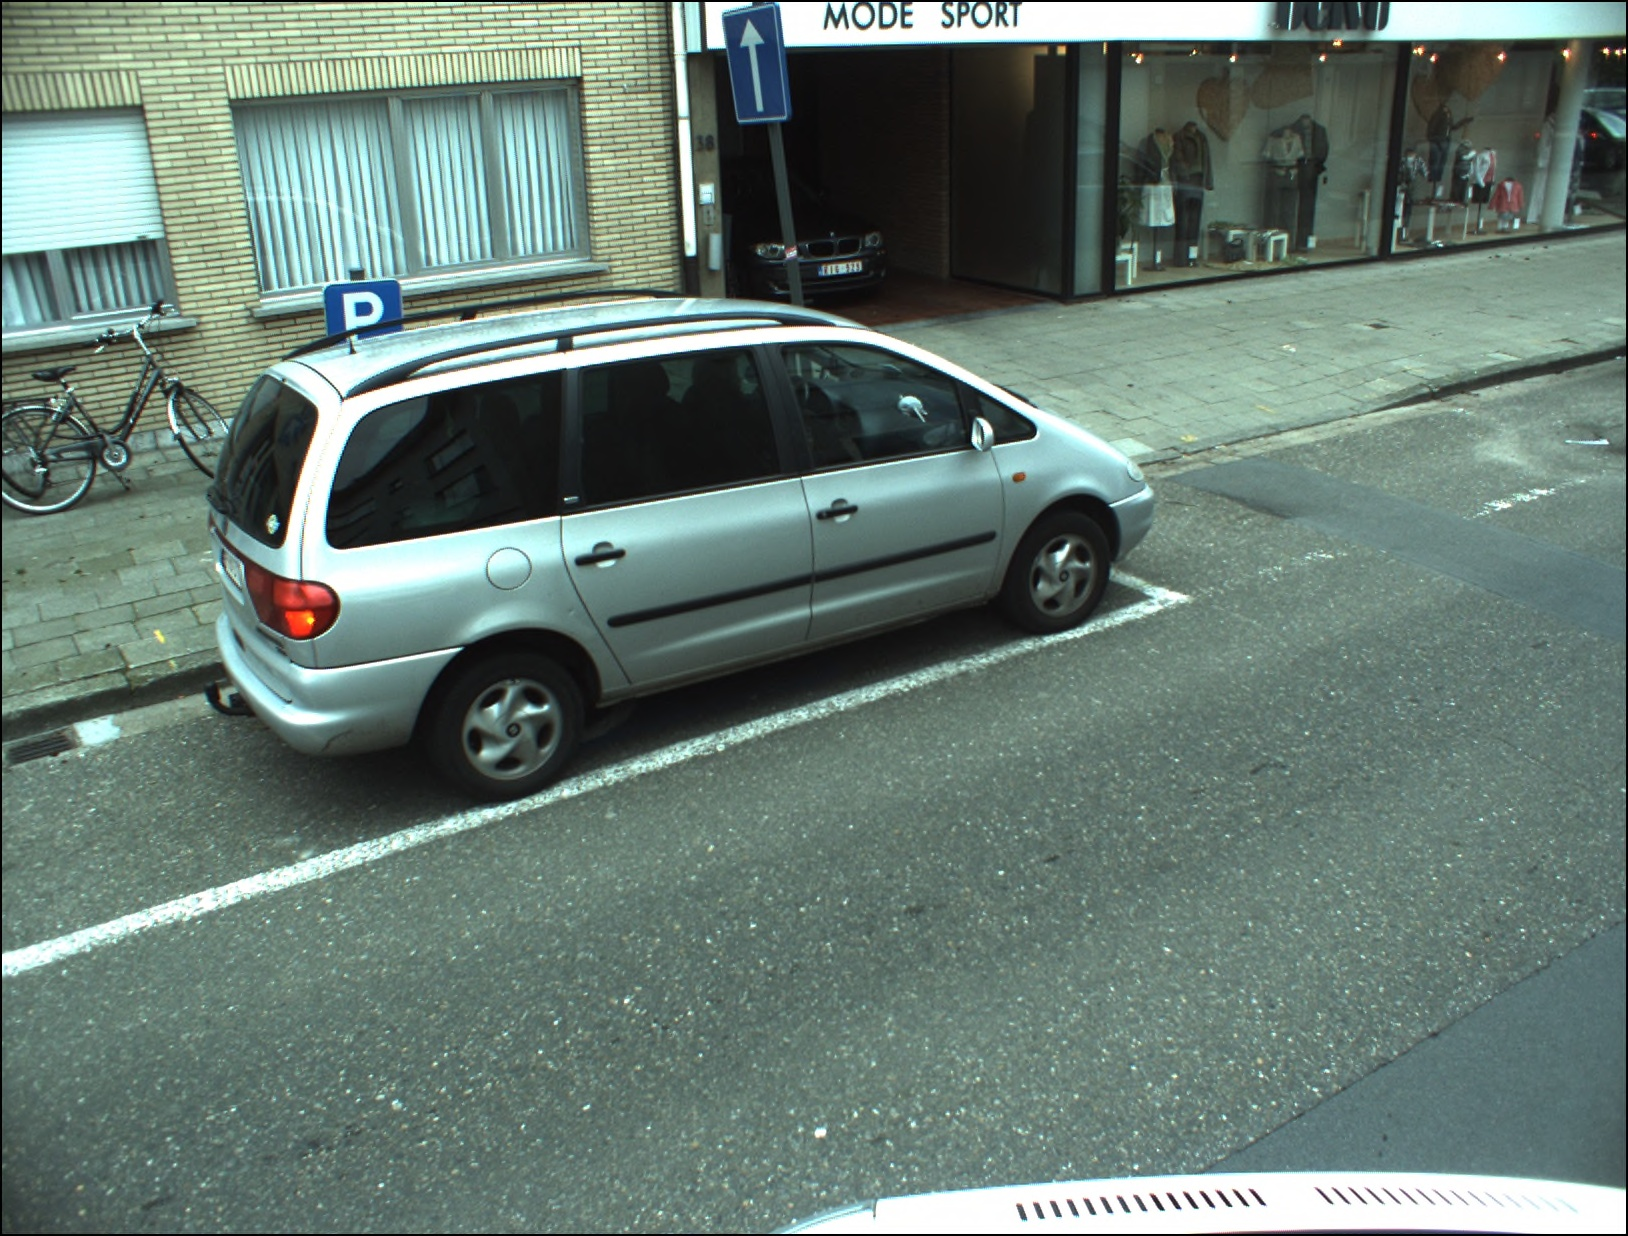oneway: (717, 4, 787, 121)
parking: (325, 282, 399, 332)
